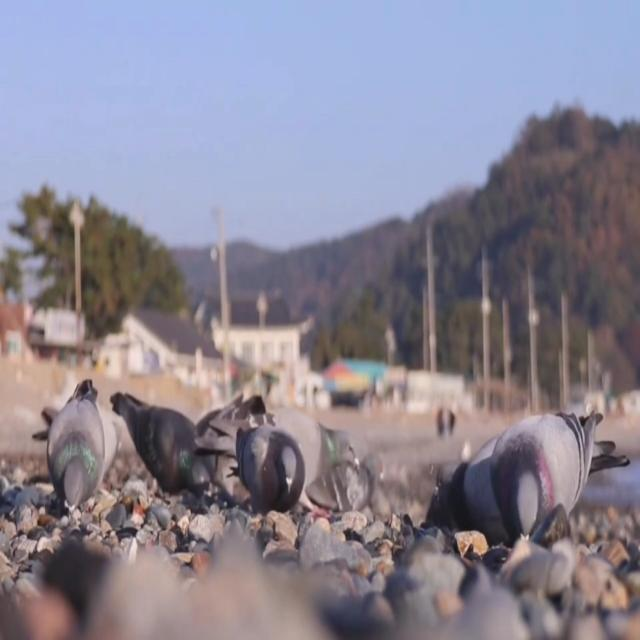bird: (492, 421, 637, 557), (114, 366, 212, 518), (244, 395, 362, 517), (419, 432, 531, 552), (43, 363, 106, 537), (172, 410, 246, 514), (235, 430, 308, 528), (25, 405, 125, 475), (209, 370, 264, 494), (312, 464, 392, 522)
